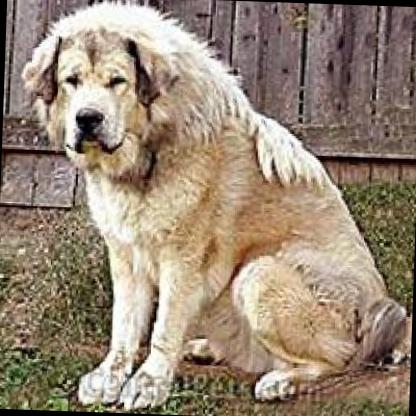Tibetan_mastiff: (7, 0, 416, 414)
